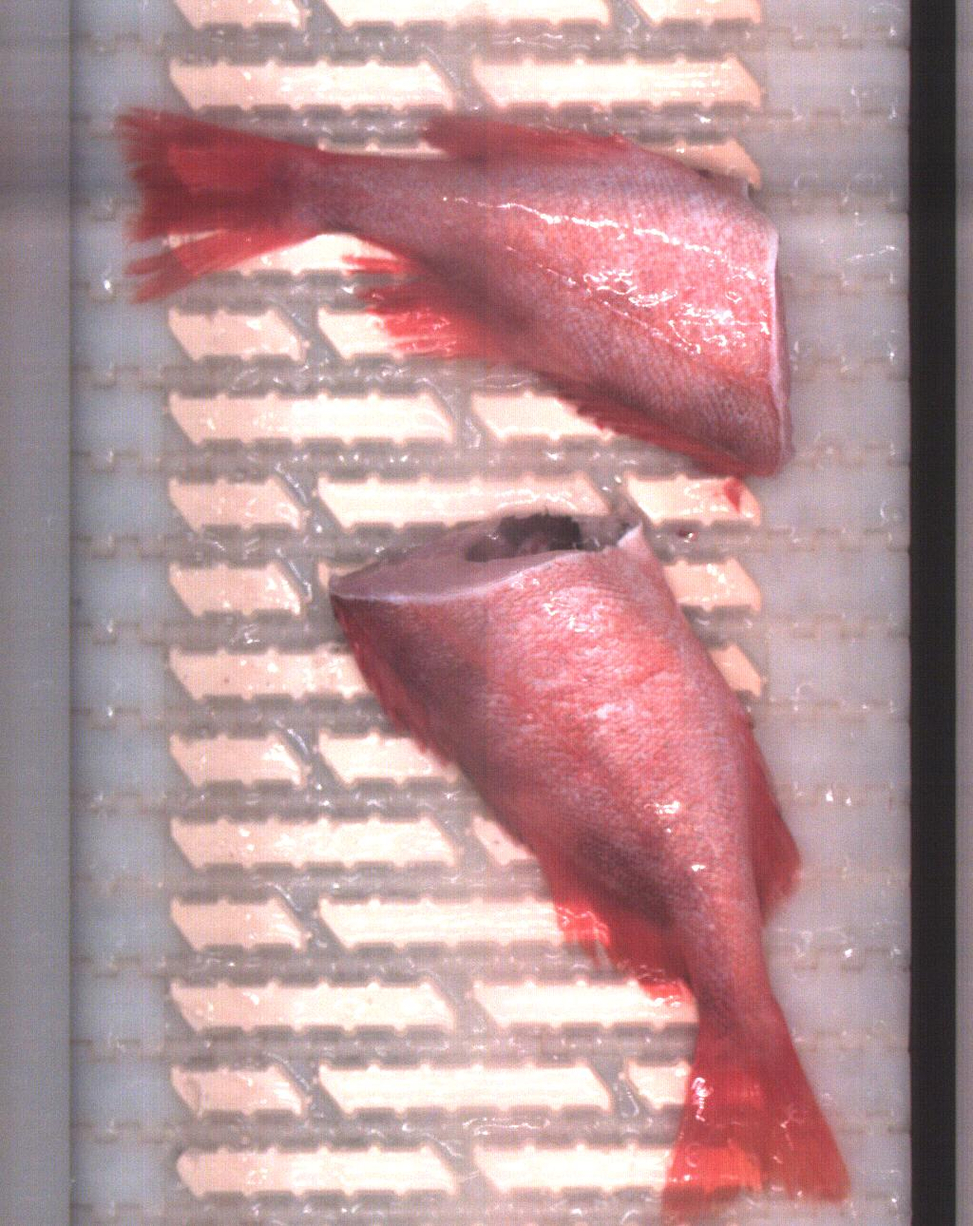Fish: (330, 516, 850, 1225), (116, 108, 794, 476)
